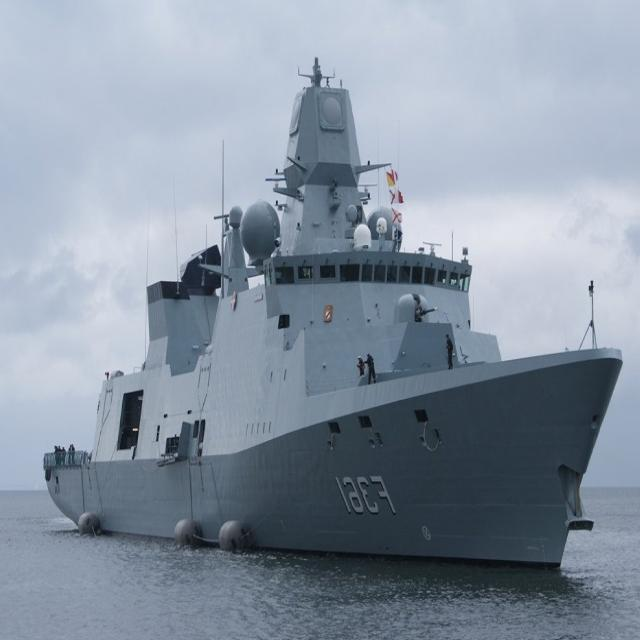navalvessels: (32, 12, 640, 576)
